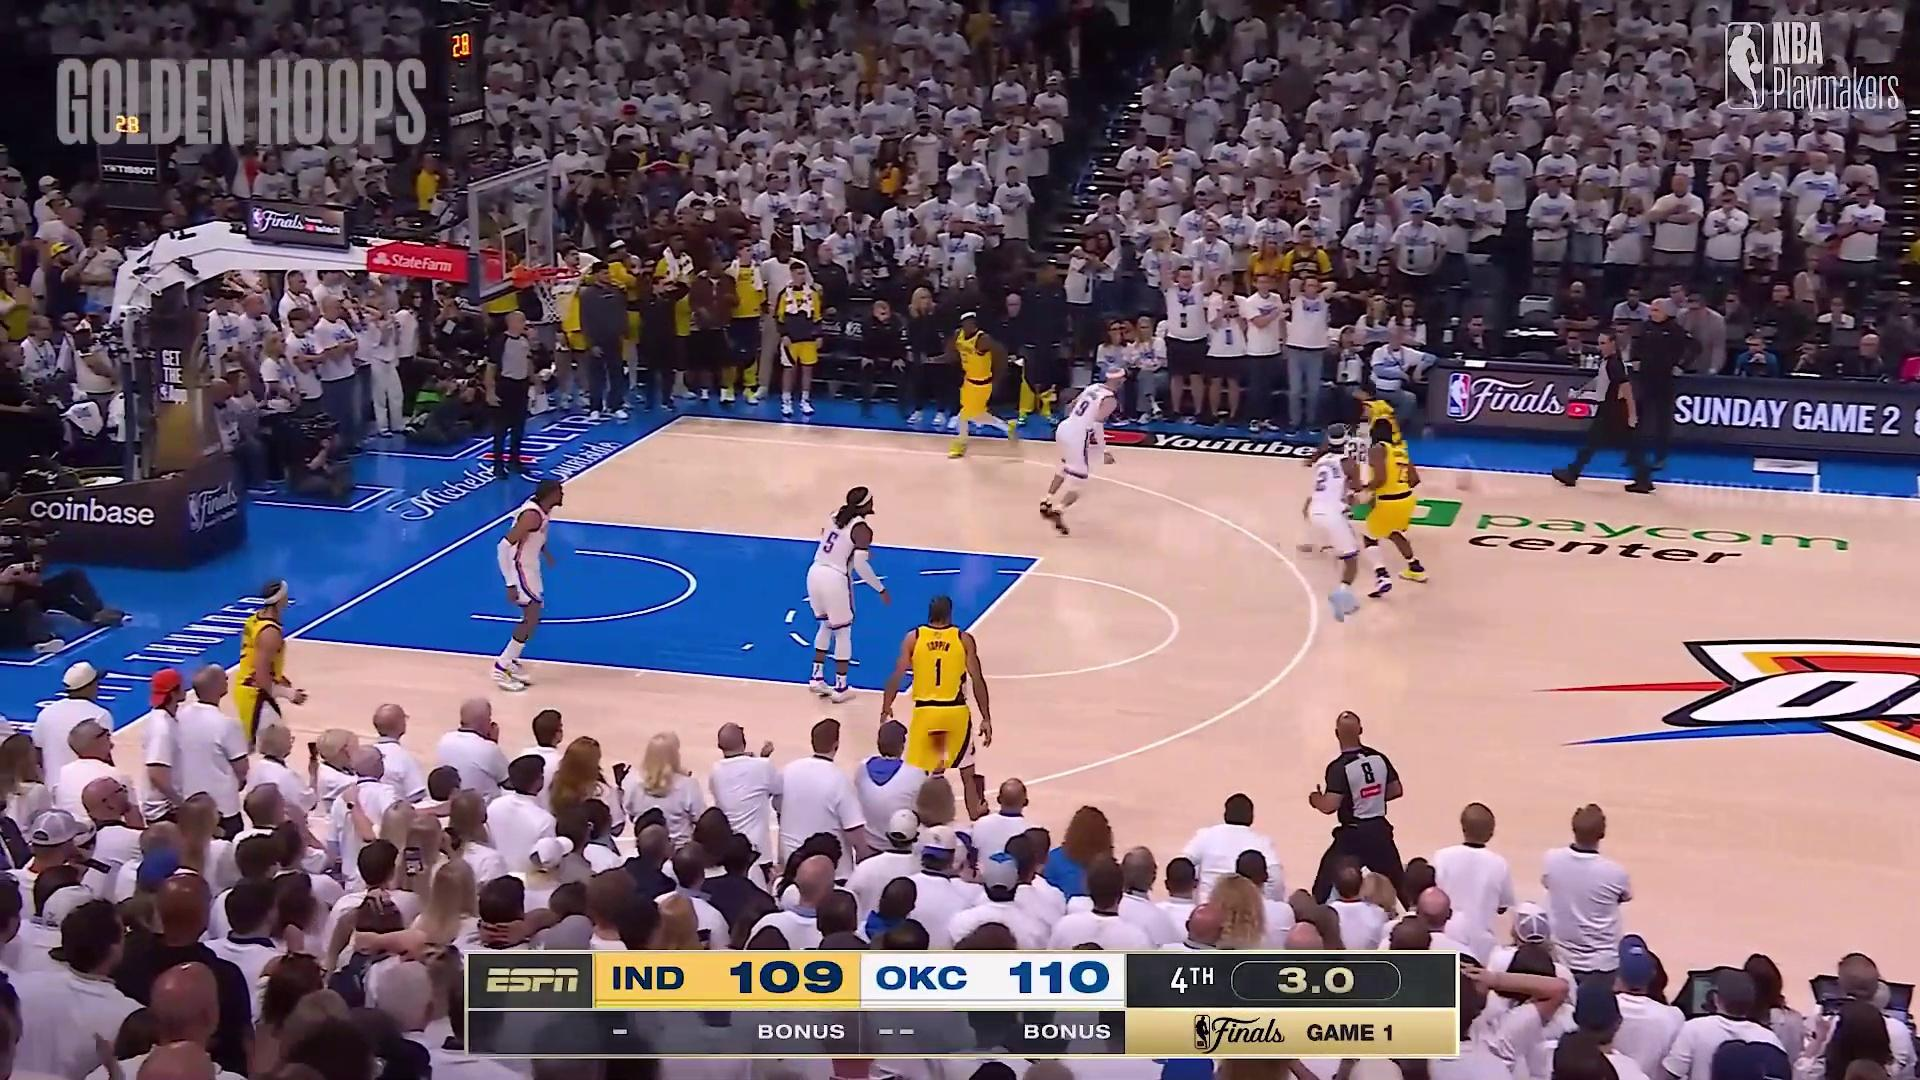hoop: (531, 244, 578, 330)
